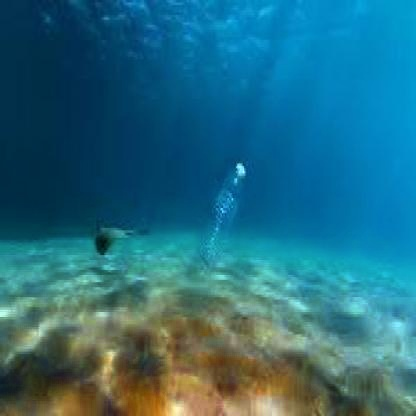pbottle: (194, 154, 251, 272)
